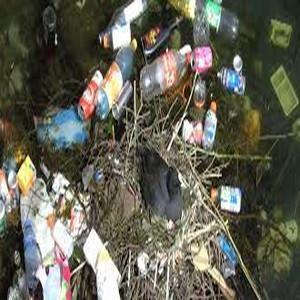Plastic: (95, 40, 136, 119), (140, 45, 197, 101), (209, 184, 246, 214), (214, 67, 255, 94), (203, 99, 223, 148)
